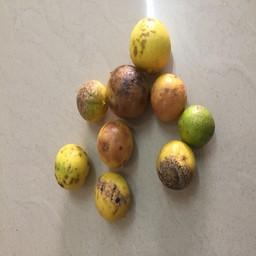Bad_lime: (127, 16, 178, 71), (107, 63, 148, 121), (157, 141, 203, 192), (52, 141, 94, 192), (96, 119, 134, 173), (95, 172, 134, 222), (78, 77, 108, 128), (152, 73, 185, 119)
